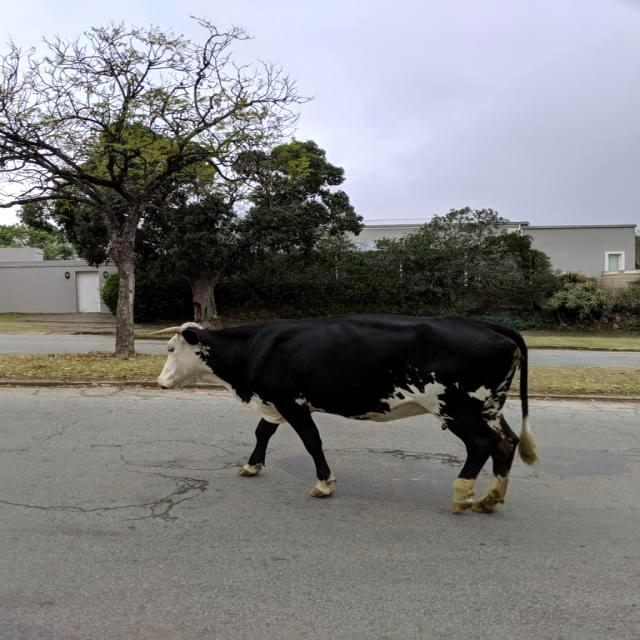COW: (158, 315, 538, 512)
